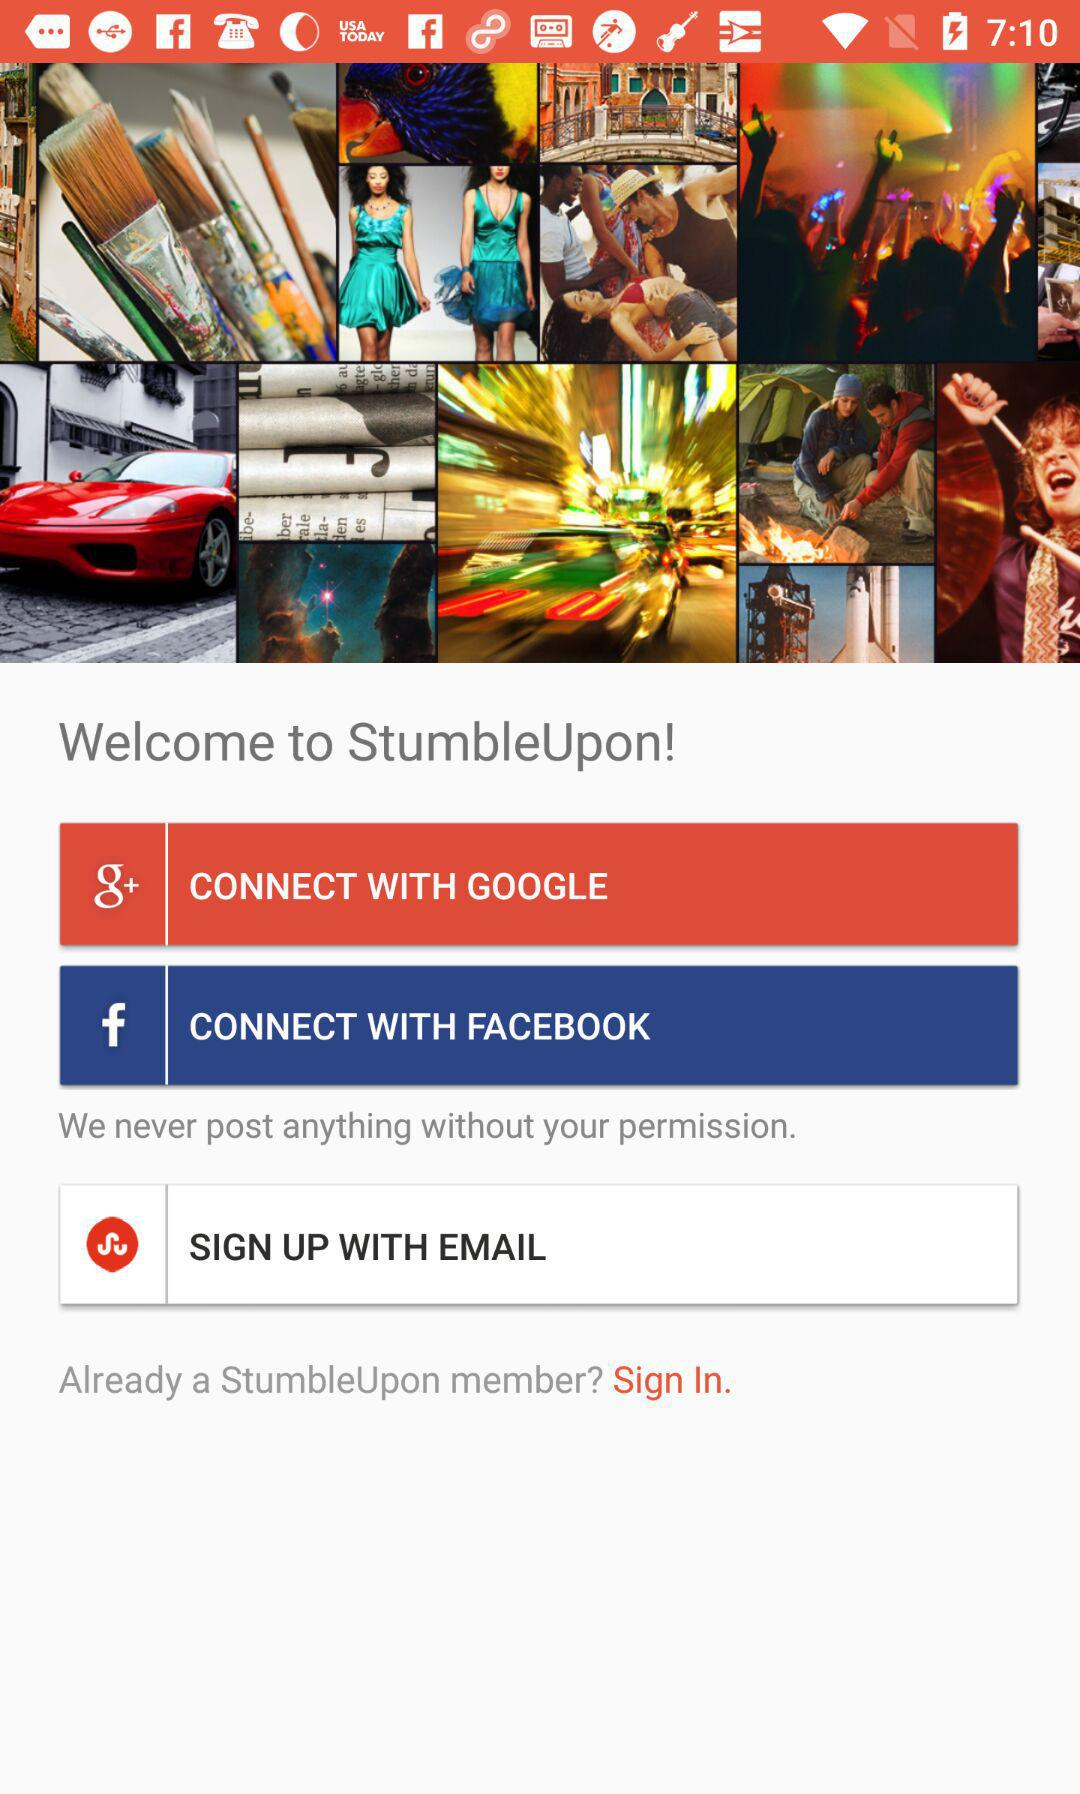Image: (1, 64, 1080, 664)
Text: (59, 720, 674, 773), (59, 1363, 732, 1402), (58, 1111, 796, 1146)
TextButton: (58, 1183, 1020, 1307), (60, 823, 1019, 947), (60, 965, 1019, 1087)
UpperTaskBar: (1, 1, 1080, 64)
